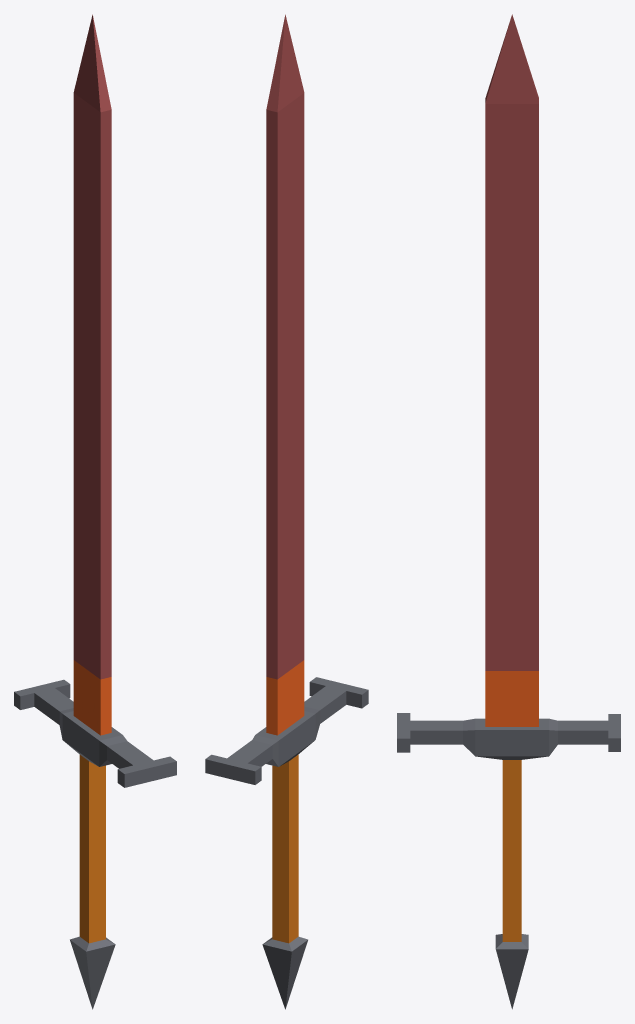
The model's file is Char_DK_Weapon.FBX.
The picture shows the model from 3 angles, left to right: view 1: azimuth 30°, elevation 25°; view 2: azimuth 150°, elevation 25°; view 3: azimuth 270°, elevation 25°; orthographic projection.
Parts seen in each view (by area): view 1: Box008; view 2: Box008; view 3: Box008.
Part boxes in pixels (x1,y1,x2,y2): Box008: [14, 14, 176, 1009]; Box008: [205, 14, 368, 1009]; Box008: [397, 14, 620, 1009].
Bounding box in the file's own units: 13.47 × 245 × 49.86.
